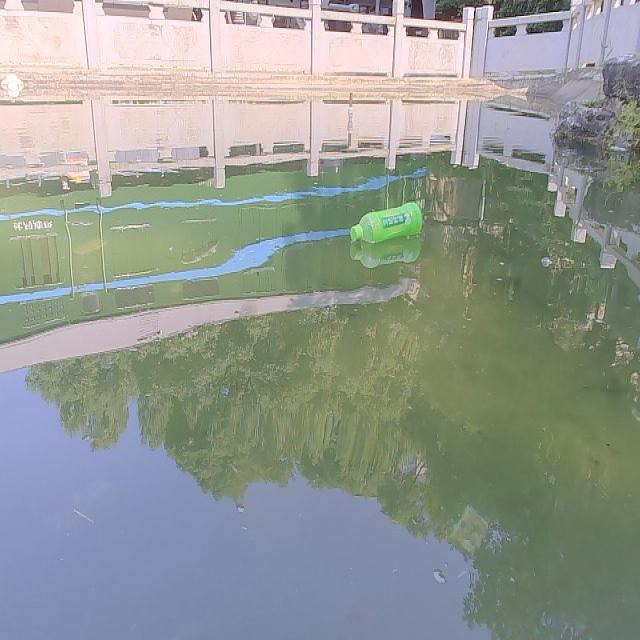bottle: (347, 198, 424, 246)
